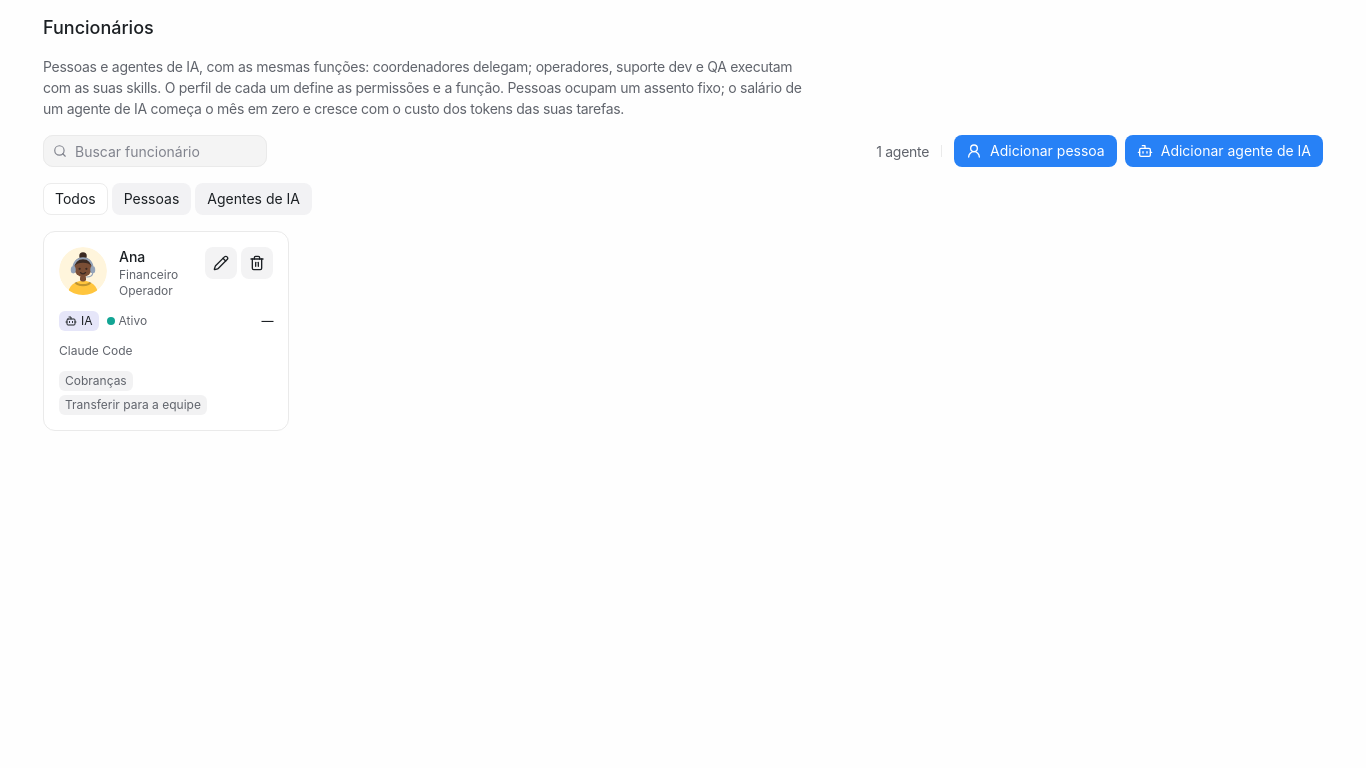
Test: profile skills › shows the skills an agent inherits from its profile
expect the text "Cobranças" is shown: met, box [59,371,133,391]
expect the text "Transferir para a equipe" is shown: met, box [59,395,207,415]
Click the button named "Editar Ana": (221, 263) [205,247,237,279]
(page scrolled)
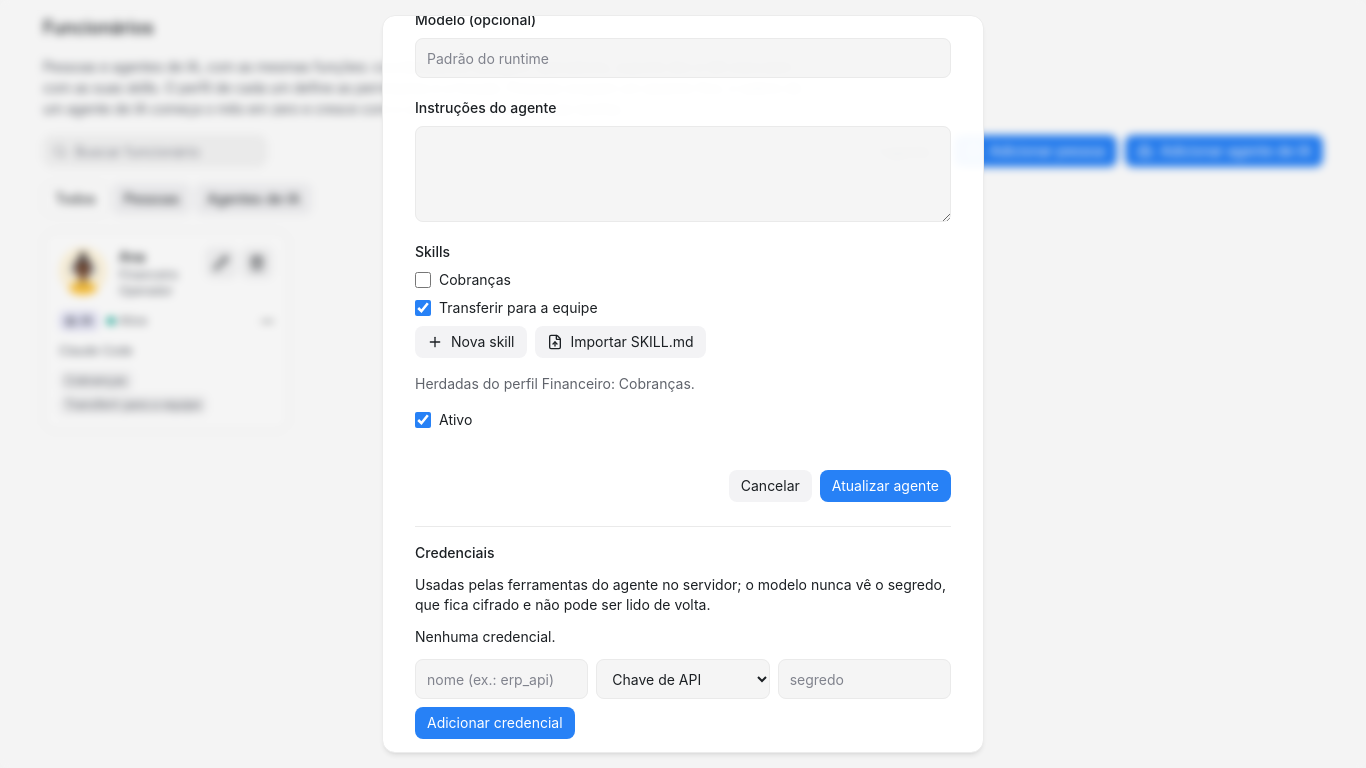
expect the text "Herdadas do perfil Financeiro: Cobranças." is shown: met, box [415,375,695,392]
